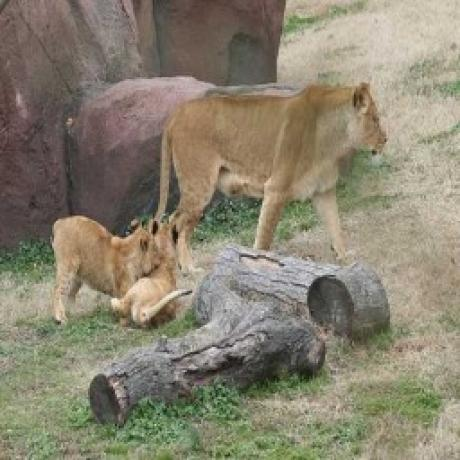Lion: (154, 78, 390, 267), (50, 214, 157, 326), (114, 219, 184, 328)
